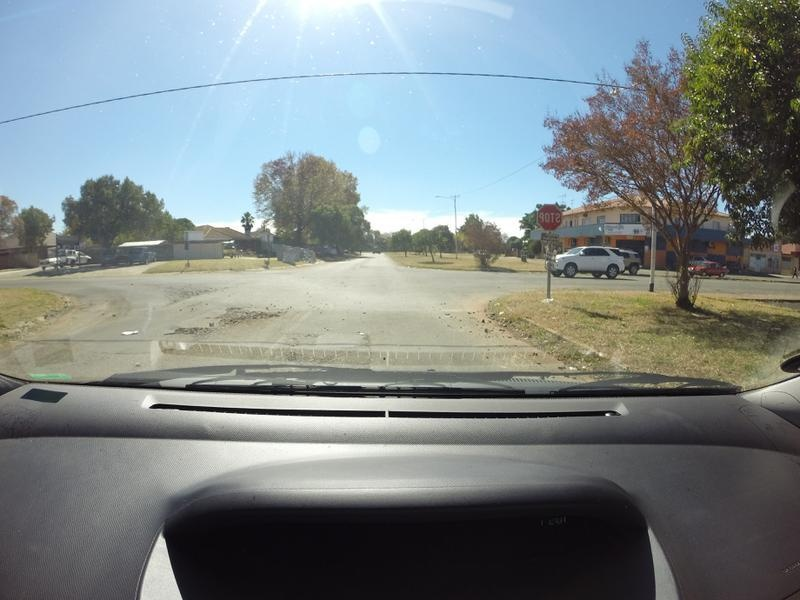pothole: (146, 327, 211, 349), (217, 307, 275, 324)
